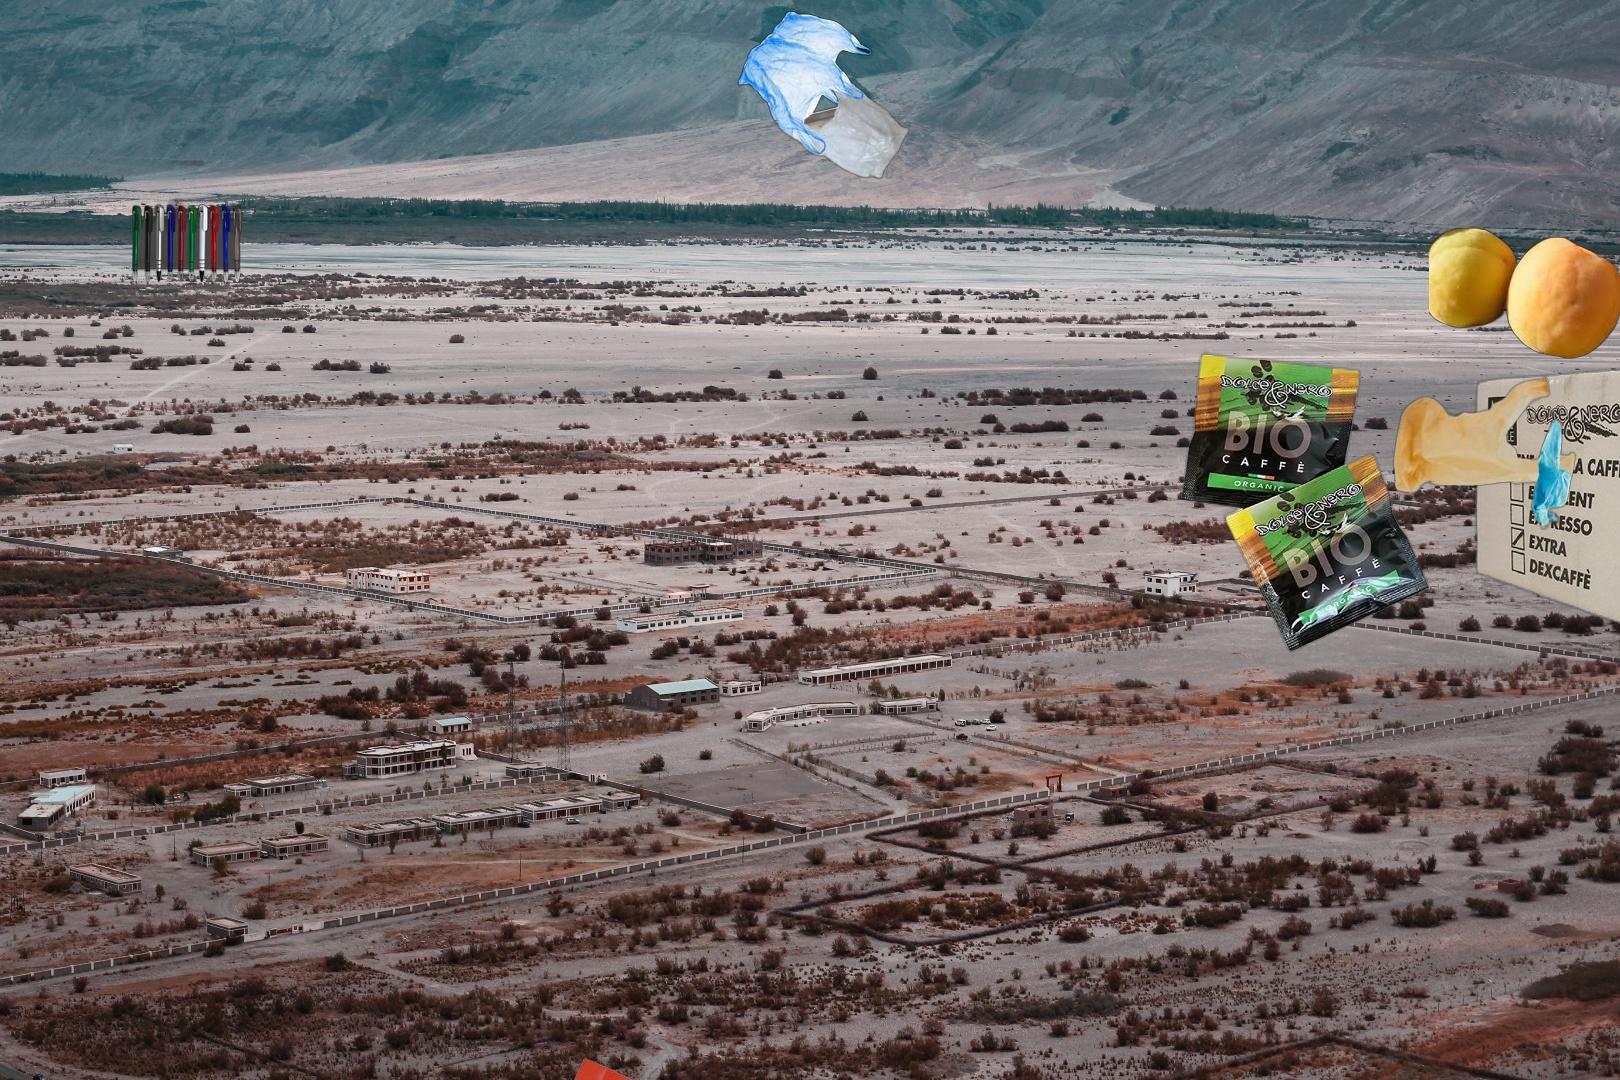biological: (1430, 211, 1620, 360)
paper-bag: (521, 1055, 739, 1080)
penholder: (121, 153, 247, 284)
plastic-bag: (736, 10, 912, 182), (1391, 372, 1578, 533)
trashbox-cardboard: (1176, 348, 1620, 656), (1603, 483, 1620, 667)
